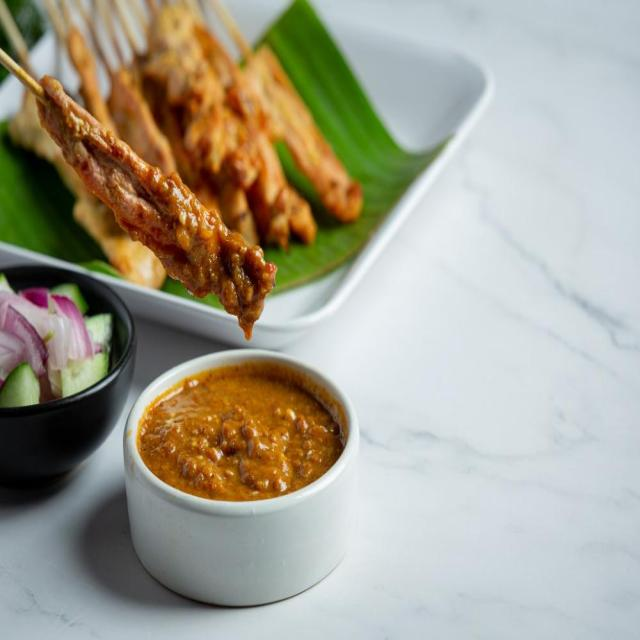Sate: (4, 69, 349, 334)
